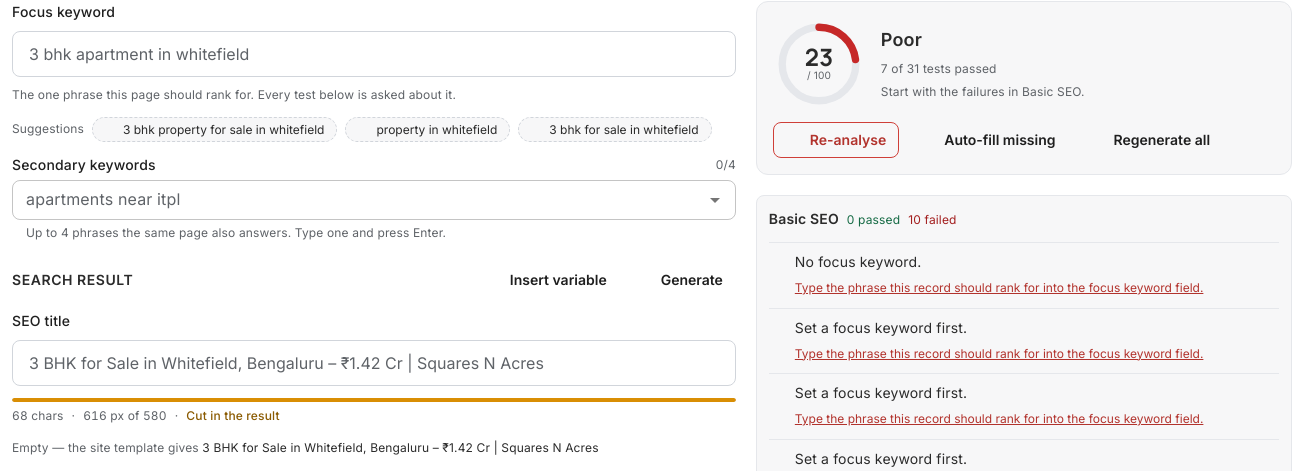
SeoPanel › inserts a template variable at the caret and resolves it in the preview
Expected: the picture named "SEO score" is shown, [773,18,865,110]
Click the button "Insert variable" in the row of "Search result": (546, 280) [473,262,620,298]
(page scrolled)
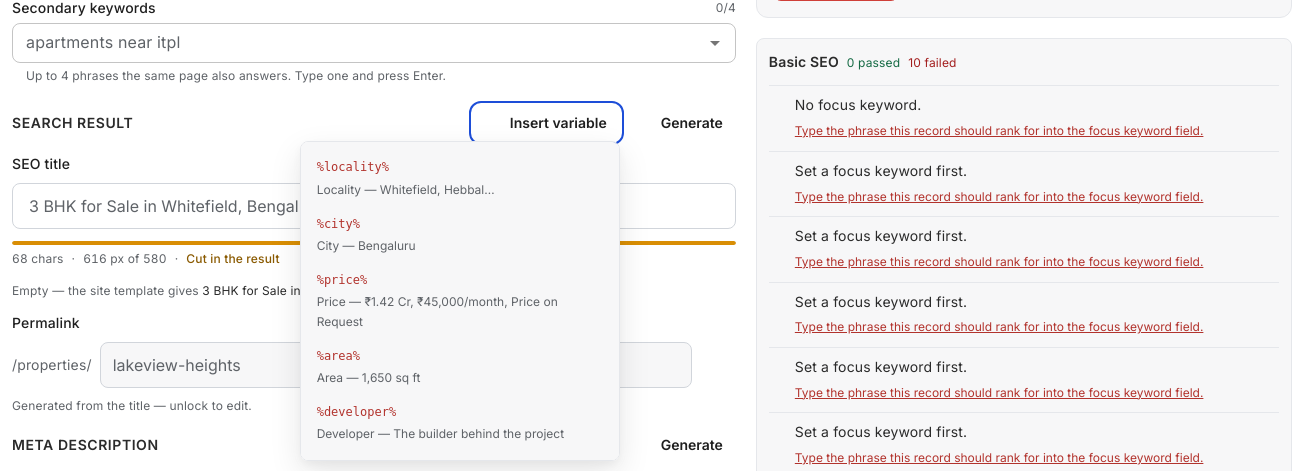
Click the button "%price% Price — ₹1.42 Cr, ₹45,000/month, Price on Request": (460, 301) [309,263,611,339]
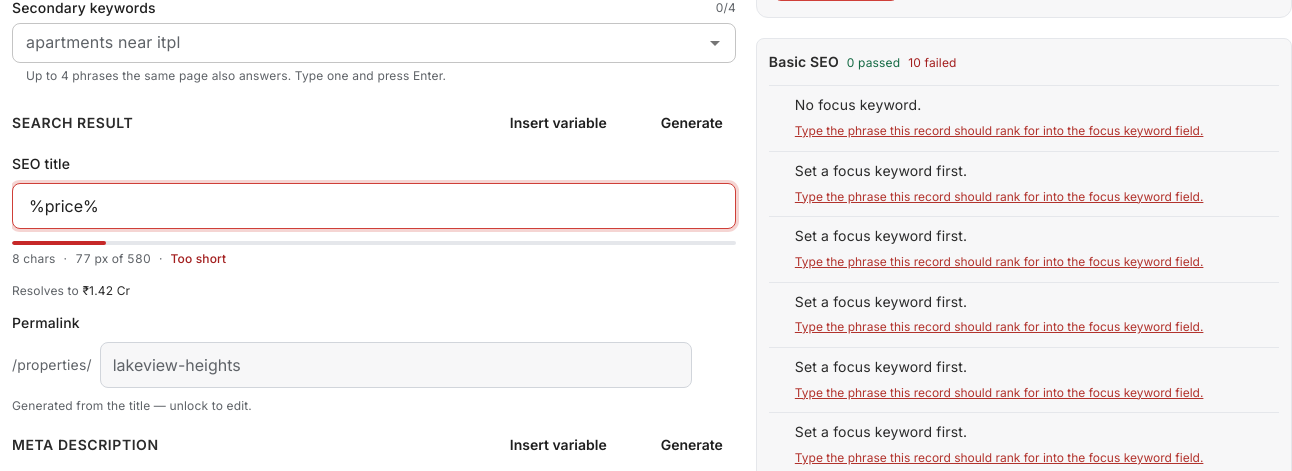
Expected: the text "₹1.42 Cr" is shown, [82,282,130,298]
Result: the field labelled "SEO title" holds "%price%" at [12,183,736,229]
